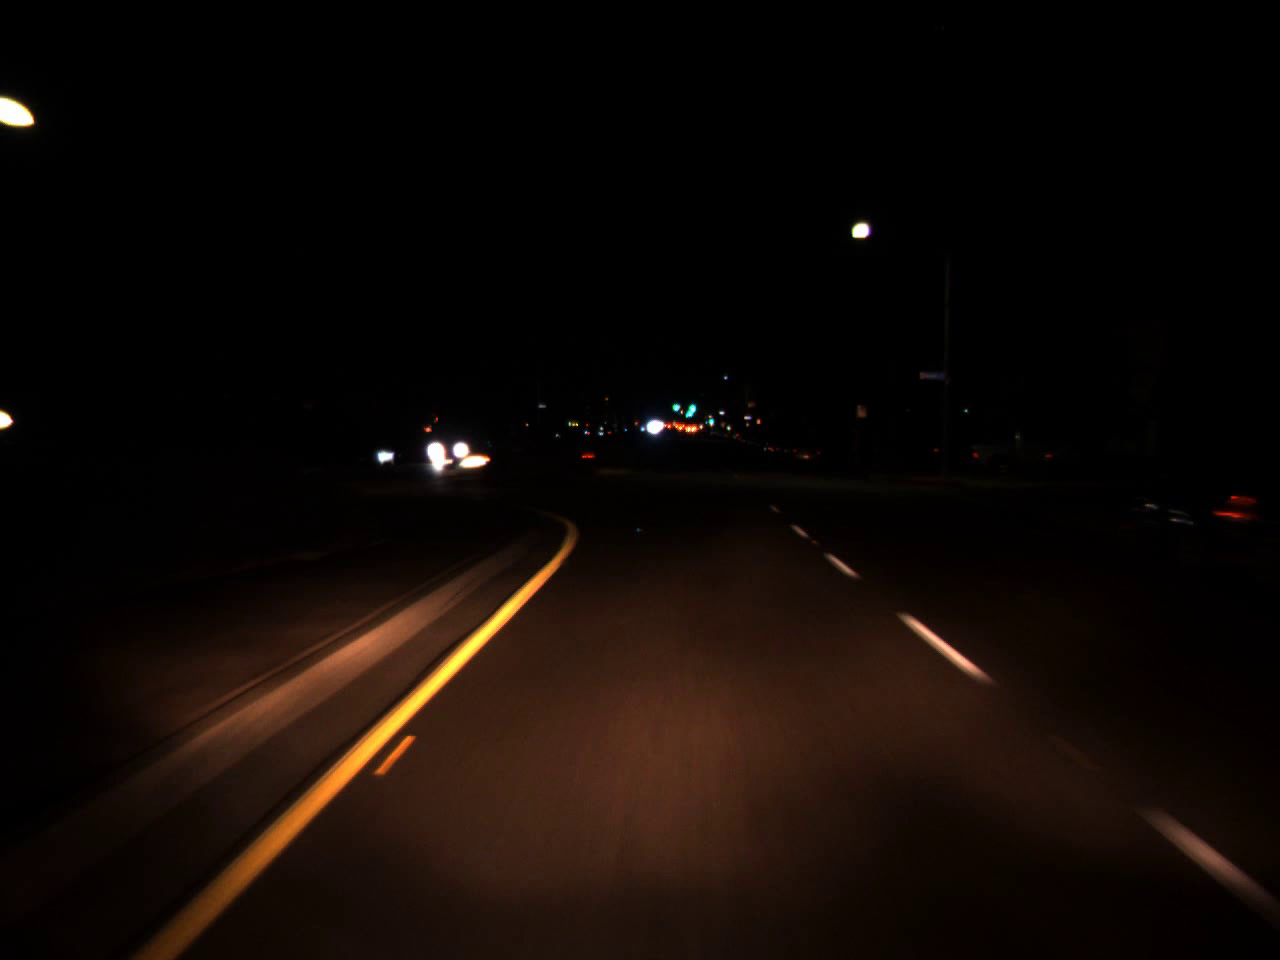go: (684, 393, 698, 417), (672, 397, 679, 412)
